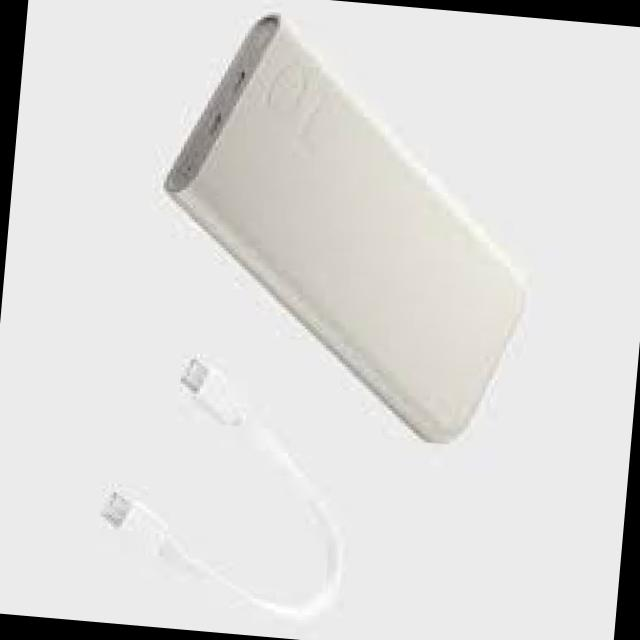portable-charger: (140, 2, 550, 453)
